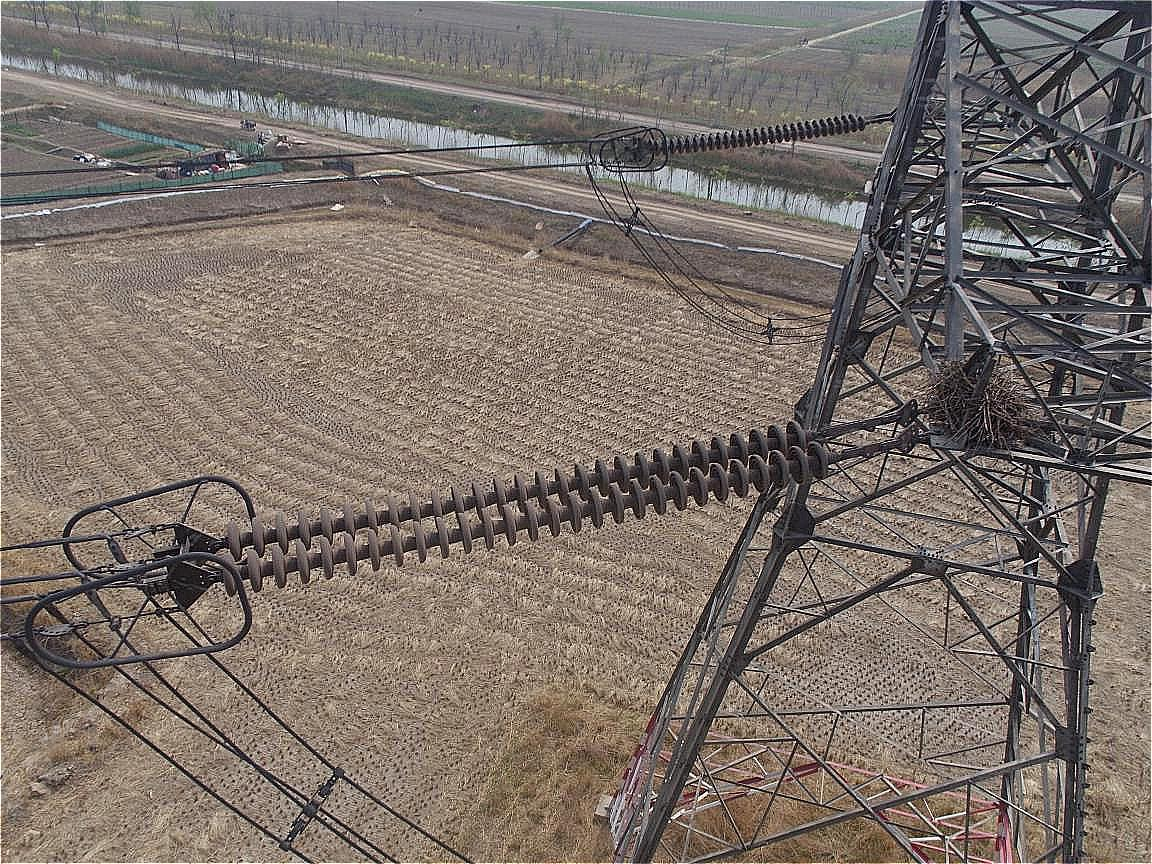insultor1: (200, 405, 848, 610)
